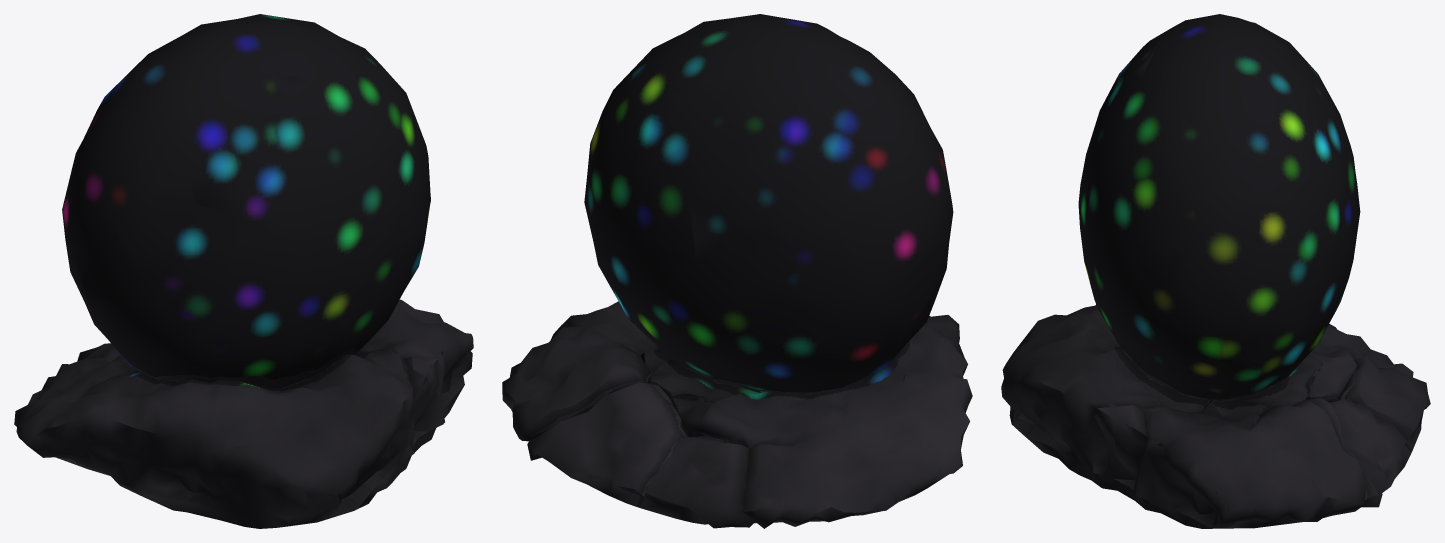
File: opalo_negro.fbx
3 views of the same model, side by side, from view 1: azimuth 30°, elevation 25°; view 2: azimuth 150°, elevation 25°; view 3: azimuth 270°, elevation 25° (orthographic). The views are drawn at different scales.
Parts seen in each view (by area): view 1: opalo_negro; view 2: opalo_negro; view 3: opalo_negro.
Boxes of the visible parts, box(x1,y1,x2,y2) form: opalo_negro: box(14, 14, 473, 528); opalo_negro: box(502, 14, 972, 528); opalo_negro: box(1001, 14, 1430, 528).
Size of the model in its own units: 2.4 by 2.22 by 2.12.
1 material, 1 textured.
